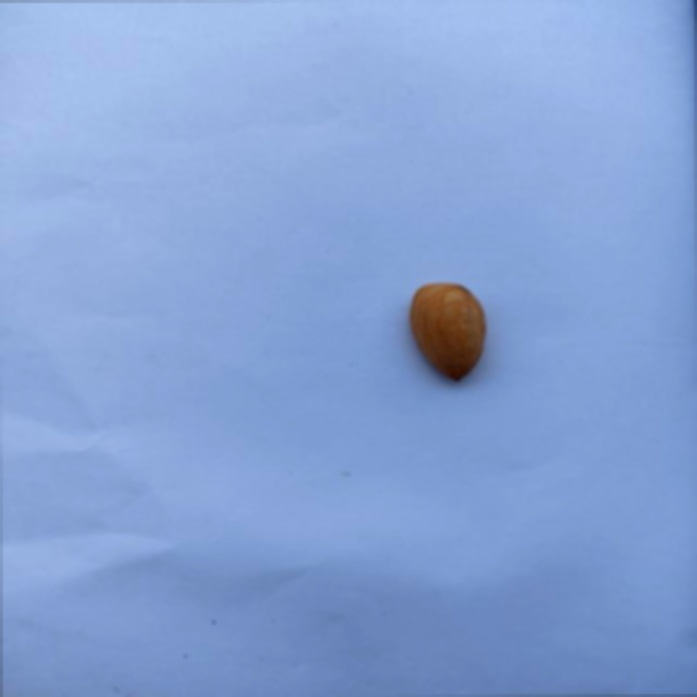grade2: (402, 280, 490, 384)
